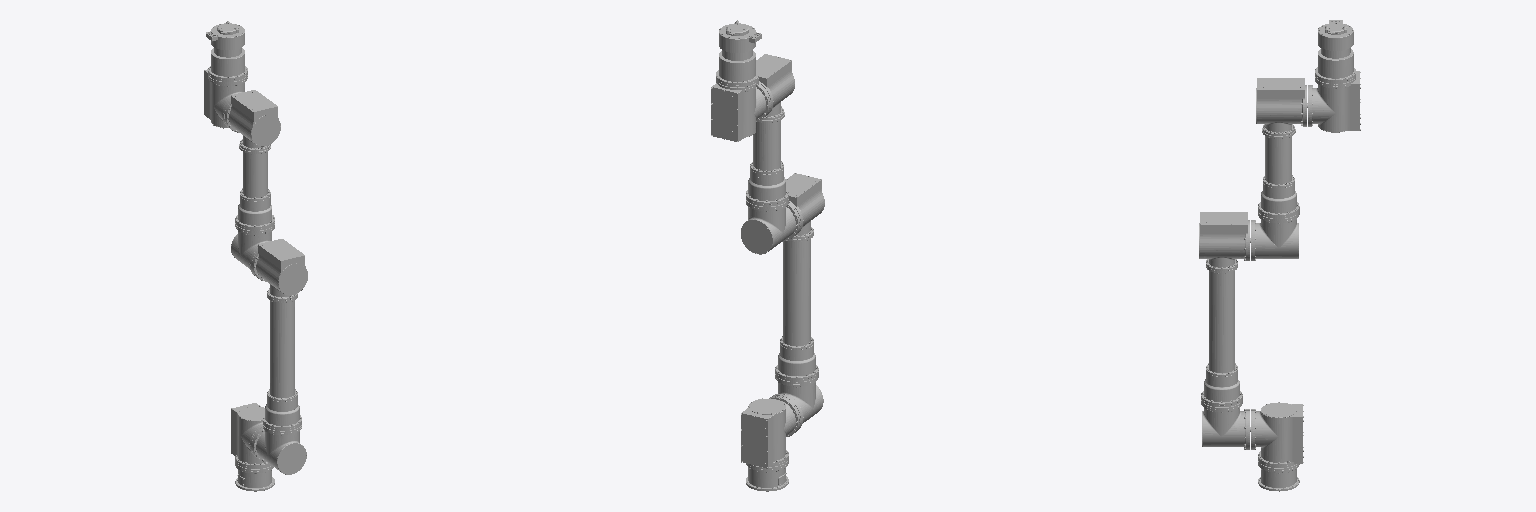
robot.urdf — KARM_EM_v2:
<?xml version="1.0" encoding="utf-8"?>
<!-- This URDF was automatically created by SolidWorks to URDF Exporter! Originally created by [author] ([email redacted]) 
 Commit Version: 1.6.0-4-g7f85cfe  Build Version: 1.6.7995.38578
 For more information, please see http://wiki.ros.org/sw_urdf_exporter -->
<robot
  name="KARM_EM_v2">
<link name="world"/>
  <link
    name="base_link">
    <inertial>
      <origin
        xyz="-0.00103581 0.0 0.04093116"
        rpy="0 0 0" />
      <mass
        value="0.50587804" />
      <inertia
        ixx="0.00132199"
        ixy="0.0"
        ixz="0.00000760"
        iyy="0.00135029"
        iyz="0.0"
        izz="0.00189639" />
    </inertial>
    <visual>
      <origin
        xyz="0 0 0"
        rpy="0 0 0" />
      <geometry>
        <mesh
          filename="meshes/ASM_EM_V2_LINK_0.STL" />
      </geometry>
      <material
        name="">
        <color
          rgba="0.75294 0.75294 0.75294 1" />
      </material>
    </visual>
    <collision>
      <origin
        xyz="0 0 0"
        rpy="0 0 0" />
      <geometry>
        <mesh
          filename="meshes/ASM_EM_V2_LINK_0.STL" />
      </geometry>
    </collision>
  </link>
  <link
    name="link1">
    <inertial>
      <origin
        xyz="-0.00012971 -0.03627547 0.07258973"
        rpy="0 0 0" />
      <mass
        value="6.73005605" />
      <inertia
        ixx="0.05762149"
        ixy="-0.00006714"
        ixz="-0.00001782"
        iyy="0.03664038"
        iyz="-0.01209112"
        izz="0.03415321" />
    </inertial>
    <visual>
      <origin
        xyz="0 0 0"
        rpy="0 0 0" />
      <geometry>
        <mesh
          filename="meshes/ASM_EM_V2_LINK_1.STL" />
      </geometry>
      <material
        name="">
        <color
          rgba="0.75294 0.75294 0.75294 1" />
      </material>
    </visual>
    <collision>
      <origin
        xyz="0 0 0"
        rpy="0 0 0" />
      <geometry>
        <mesh
          filename="meshes/ASM_EM_V2_LINK_1.STL" />
      </geometry>
    </collision>
  </link>

  <link
    name="link2">
    <inertial>
      <origin
        xyz="0 -0.07828883 0.02158454"
        rpy="0 0 0" />
      <mass
        value="1.03696228" />
      <inertia
        ixx="0.00585872"
        ixy="-0.00000001"
        ixz="0.0"
        iyy="0.00499784"
        iyz="-0.00021746"
        izz="0.00585872" />
    </inertial>
    <visual>
      <origin
        xyz="0 0 0"
        rpy="0 0 0" />
      <geometry>
        <mesh
          filename="meshes/ASM_EM_V2_LINK_2.STL" />
      </geometry>
      <material
        name="">
        <color
          rgba="0.752941176470588 0.752941176470588 0.752941176470588 1" />
      </material>
    </visual>
    <collision>
      <origin
        xyz="0 0 0"
        rpy="0 0 0" />
      <geometry>
        <mesh
          filename="meshes/ASM_EM_V2_LINK_2.STL" />
      </geometry>
    </collision>
  </link>

  <link
    name="link3">
    <inertial>
      <origin
        xyz="-0.00007377 0.03129504 0.34046856"
        rpy="0 0 0" />
      <mass
        value="8.53351346" />
      <inertia
        ixx="0.67442861"
        ixy="0.00002201"
        ixz="-0.00021578"
        iyy="0.65414252"
        iyz="0.06857224"
        izz="0.03701854" />
    </inertial>
    <visual>
      <origin
        xyz="0 0 0"
        rpy="0 0 0" />
      <geometry>
        <mesh
          filename="meshes/ASM_EM_V2_LINK_3.STL" />
      </geometry>
      <material
        name="">
        <color
          rgba="0.75294 0.75294 0.75294 1" />
      </material>
    </visual>
    <collision>
      <origin
        xyz="0 0 0"
        rpy="0 0 0" />
      <geometry>
        <mesh
          filename="meshes/ASM_EM_V2_LINK_3.STL" />
      </geometry>
    </collision>
  </link>

  <link
    name="link4">
    <inertial>
      <origin
        xyz="0.0 0.07828883 0.02158454"
        rpy="0 0 0" />
      <mass
        value="1.03696228" />
      <inertia
        ixx="0.00585872"
        ixy="0.0"
        ixz="0.0"
        iyy="0.00499784"
        iyz="0.00021746"
        izz="0.00479989" />
    </inertial>
    <visual>
      <origin
        xyz="0 0 0"
        rpy="0 0 0" />
      <geometry>
        <mesh
          filename="meshes/ASM_EM_V2_LINK_4.STL" />
      </geometry>
      <material
        name="">
        <color
          rgba="0.752941176470588 0.752941176470588 0.752941176470588 1" />
      </material>
    </visual>
    <collision>
      <origin
        xyz="0 0 0"
        rpy="0 0 0" />
      <geometry>
        <mesh
          filename="meshes/ASM_EM_V2_LINK_4.STL" />
      </geometry>
    </collision>
  </link>

  <link
    name="link5">
    <inertial>
      <origin
        xyz="-0.00007975 0.03383054 0.23087355"
        rpy="0 0 0" />
      <mass
        value="7.89416673" />
      <inertia
        ixx="0.30885258"
        ixy="0.00002377"
        ixz="-0.00015419"
        iyy="0.28924225"
        iyz="0.04446799"
        izz="0.03516201" />
    </inertial>
    <visual>
      <origin
        xyz="0 0 0"
        rpy="0 0 0" />
      <geometry>
        <mesh
          filename="meshes/ASM_EM_V2_LINK_5.STL" />
      </geometry>
      <material
        name="">
        <color
          rgba="0.75294 0.75294 0.75294 1" />
      </material>
    </visual>
    <collision>
      <origin
        xyz="0 0 0"
        rpy="0 0 0" />
      <geometry>
        <mesh
          filename="meshes/ASM_EM_V2_LINK_5.STL" />
      </geometry>
    </collision>
  </link>

  <link
    name="link6">
    <inertial>
      <origin
        xyz="0.00020364 0.09335466 0.07814514"
        rpy="0 0 0" />
      <mass
        value="4.17204018" />
      <inertia
        ixx="0.02564449"
        ixy="0.00003403"
        ixz="-0.00004296"
        iyy="0.02310433"
        iyz="-0.00116219"
        izz="0.01188389" />
    </inertial>
    <visual>
      <origin
        xyz="0 0 0"
        rpy="0 0 0" />
      <geometry>
        <mesh
          filename="meshes/ASM_EM_V2_LINK_6.STL" />
      </geometry>
      <material
        name="">
        <color
          rgba="0.752941176470588 0.752941176470588 0.752941176470588 1" />
      </material>
    </visual>
    <collision>
      <origin
        xyz="0 0 0"
        rpy="0 0 0" />
      <geometry>
        <mesh
          filename="meshes/ASM_EM_V2_LINK_6.STL" />
      </geometry>
    </collision>
  </link>

  <link
    name="link7">
    <inertial>
      <origin
        xyz="0.00001055 -0.00228688 0.11844420"
        rpy="0 0 0" />
      <mass
        value="1.54531322" />
      <inertia
        ixx="0.00332840"
        ixy="-0.00002715"
        ixz="-0.00000961"
        iyy="0.00369572"
        iyz="-0.00004800"
        izz="0.00245411" />
    </inertial>
    <visual>
      <origin
        xyz="0 0 0"
        rpy="0 0 0" />
      <geometry>
        <mesh
          filename="meshes/ASM_EM_V2_LINK_7.STL" />
      </geometry>
      <material
        name="">
        <color
          rgba="0.752941176470588 0.752941176470588 0.752941176470588 1" />
      </material>
    </visual>
    <collision>
      <origin
        xyz="0 0 0"
        rpy="0 0 0" />
      <geometry>
        <mesh
          filename="meshes/ASM_EM_V2_LINK_7.STL" />
      </geometry>
    </collision>
  </link>

  <link name="tcp">
      <inertial>
        <origin xyz="0 0 0"  rpy="0 0 0" />
        <mass value="0.0"/>
        <inertia  ixx="0.0"      ixy="0"      ixz="0"      iyy="0.0"      iyz="0"      izz="0.0" />
     </inertial>
  </link>


  <joint name="world_fixed" type="fixed">
    <parent link="world"/>
    <child link="base_link"/>
    <origin xyz="0 0 0" rpy="0 0 0"/>
    <axis xyz="0 0 1"/>
  </joint>

  <joint
    name="joint1"
    type="revolute">
    <origin
      xyz="0 0 0.078"
      rpy="0 0 0" />
    <parent
      link="base_link" />
    <child
      link="link1" />
    <axis
      xyz="0 0 1" />
    <limit
      lower="-3.14"
      upper="3.14"
      effort="400"
      velocity="3.14" />
  </joint>

  <joint
    name="joint2"
    type="revolute">
    <origin
      xyz="0 -0.104 0.121"
      rpy="0 0 0" />
    <parent
      link="link1" />
    <child
      link="link2" />
    <axis
      xyz="0 1 0" />
    <limit
      lower="-3.14"
      upper="3.14"
      effort="400"
      velocity="3.14" />
  </joint>

  <joint
    name="joint3"
    type="revolute">
    <origin
      xyz="0.0 -0.088 0.105"
      rpy="0 0 0" />
    <parent
      link="link2" />
    <child
      link="link3" />
    <axis
      xyz="0 0 1" />
    <limit
      lower="-3.14"
      upper="3.14"
      effort="400"
      velocity="3.14" />
  </joint>

  <joint
    name="joint4"
    type="revolute">
    <origin
      xyz="0.0 0.104 0.597"
      rpy="0 0 0" />
    <parent
      link="link3" />
    <child
      link="link4" />
    <axis
      xyz="0 1 0" />
    <limit
      lower="-3.14"
      upper="3.14"
      effort="400"
      velocity="3.14" />
  </joint>

  <joint
    name="joint5"
    type="revolute">
    <origin
      xyz="0.0 0.088 0.105"
      rpy="0 0 0" />
    <parent
      link="link4" />
    <child
      link="link5" />
    <axis
      xyz="0 0 1" />
    <limit
      lower="-3.14"
      upper="3.14"
      effort="400"
      velocity="3.14" />
  </joint>

  <joint
    name="joint6"
    type="revolute">
    <origin
      xyz="0 0.104 0.397"
      rpy="0 0 0" />
    <parent
      link="link5" />
    <child
      link="link6" />
    <axis
      xyz="0 1 0" />
    <limit
      lower="-3.14"
      upper="3.14"
      effort="400"
      velocity="3.14" />
  </joint>

  <joint
    name="joint7"
    type="revolute">
    <origin
      xyz="0.0 0.088 0.121"
      rpy="0 0 0" />
    <parent
      link="link6" />
    <child
      link="link7" />
    <axis
      xyz="0 0 1" />
    <limit
      lower="-3.14"
      upper="3.14"
      effort="400"
      velocity="3.14" />
  </joint>

  <joint name="tcp_fixed" type="fixed">
    <parent link="link7"/>
    <child link="tcp"/>
    <origin xyz="0 0 0.173222" rpy="0 0 0"/>
  </joint>
</robot>

--- Render facts (derived) ---
3 views of the same robot in one strip: view 1: azimuth 30°, elevation 25°; view 2: azimuth 150°, elevation 25°; view 3: azimuth 270°, elevation 25° (orthographic).
Model KARM_EM_v2 with 10 links and 9 joints (7 revolute, 2 fixed), rooted at world, posed every joint at zero.
Visible links, largest first — view 1: link3, link5, link7, link1, link2, link6, link4, base_link; view 2: link3, link5, link1, link6, link7, link4, link2, base_link; view 3: link3, link5, link1, link6, link7, link4, link2, base_link.
Boxes of the visible links, x1,y1,x2,y2 form: link3: [251, 239, 307, 432]; link5: [223, 90, 280, 232]; link7: [206, 21, 247, 79]; link1: [231, 403, 272, 471]; link2: [253, 427, 306, 474]; link6: [204, 69, 247, 128]; link4: [231, 225, 274, 275]; base_link: [235, 464, 274, 491]; link3: [775, 173, 824, 383]; link5: [746, 54, 794, 208]; link1: [741, 395, 801, 469]; link6: [711, 78, 769, 141]; link7: [716, 20, 761, 84]; link4: [741, 202, 799, 254]; link2: [773, 376, 823, 427]; base_link: [746, 462, 788, 491]; link3: [1199, 212, 1252, 409]; link5: [1256, 78, 1309, 220]; link1: [1248, 402, 1303, 470]; link6: [1310, 71, 1360, 132]; link7: [1315, 20, 1355, 81]; link4: [1253, 213, 1299, 260]; link2: [1201, 402, 1247, 449]; base_link: [1258, 464, 1299, 491].
Bounding box of the posed robot: 0.1487 × 0.546 × 1.71 m (x, y, z).
8 mesh visuals loaded from 8 distinct referenced files (8 binary STL).
